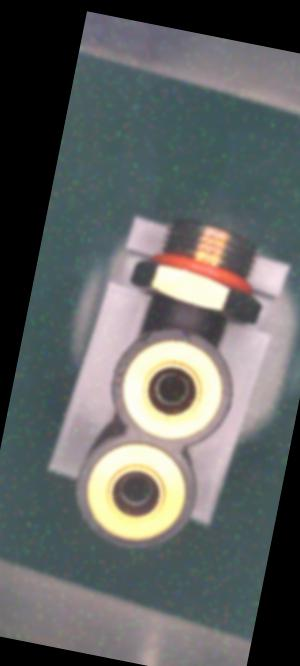bump: (173, 322, 203, 346), (130, 323, 155, 346)
white mark: (186, 299, 201, 318)
